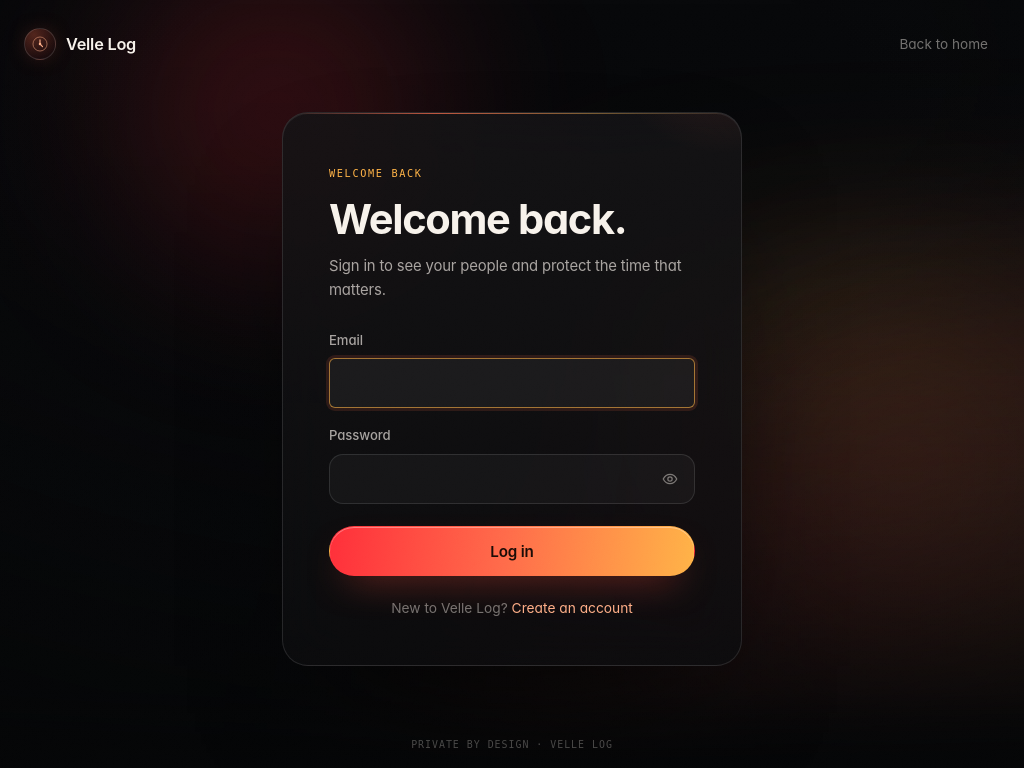
LoginPage › shows required email and password validation
Expected: the heading "Welcome back." is shown, [329, 194, 626, 244]
Click the button "Log in" at (512, 551), box [329, 526, 695, 576]
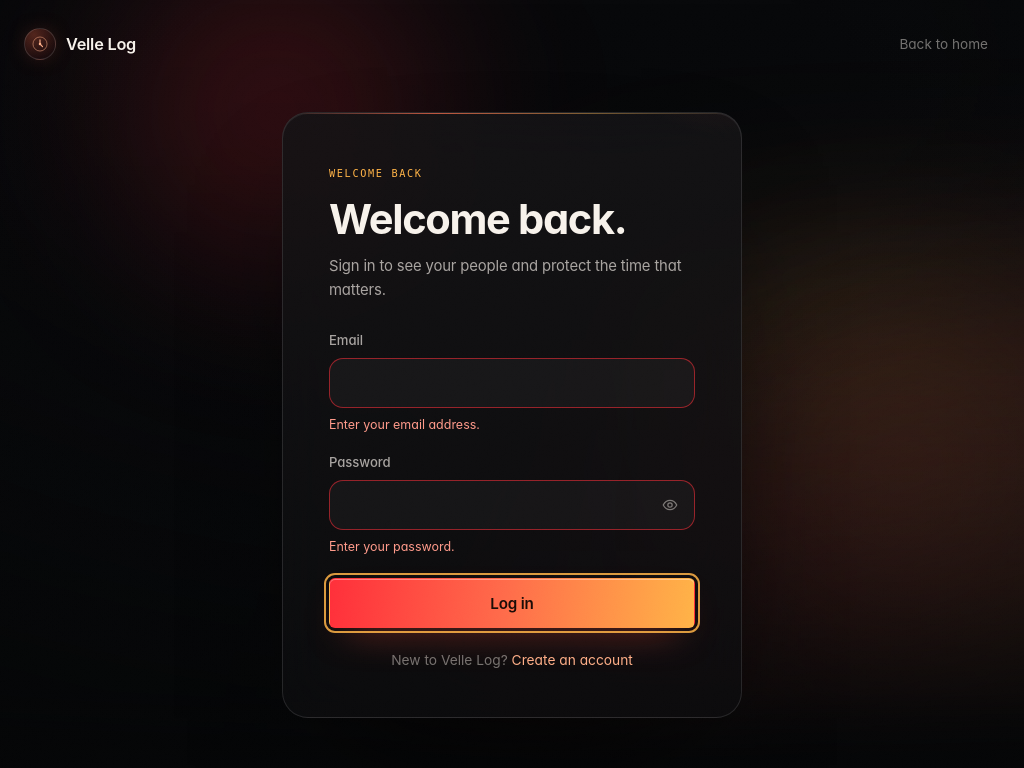
Now the text "Enter your email address." is shown, box [329, 417, 480, 432]
Now the text "Enter your password." is shown, box [329, 539, 455, 554]
